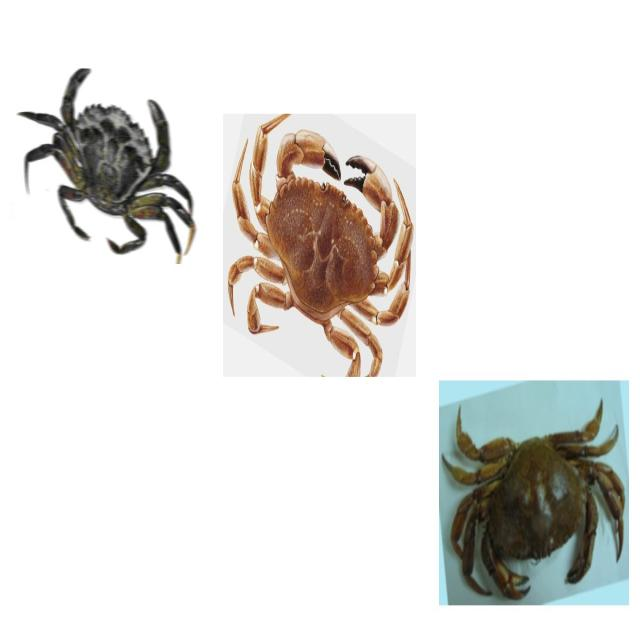egc: (18, 68, 204, 262)
jonah_crab: (222, 114, 417, 381)
rock_crab: (446, 403, 624, 595)
